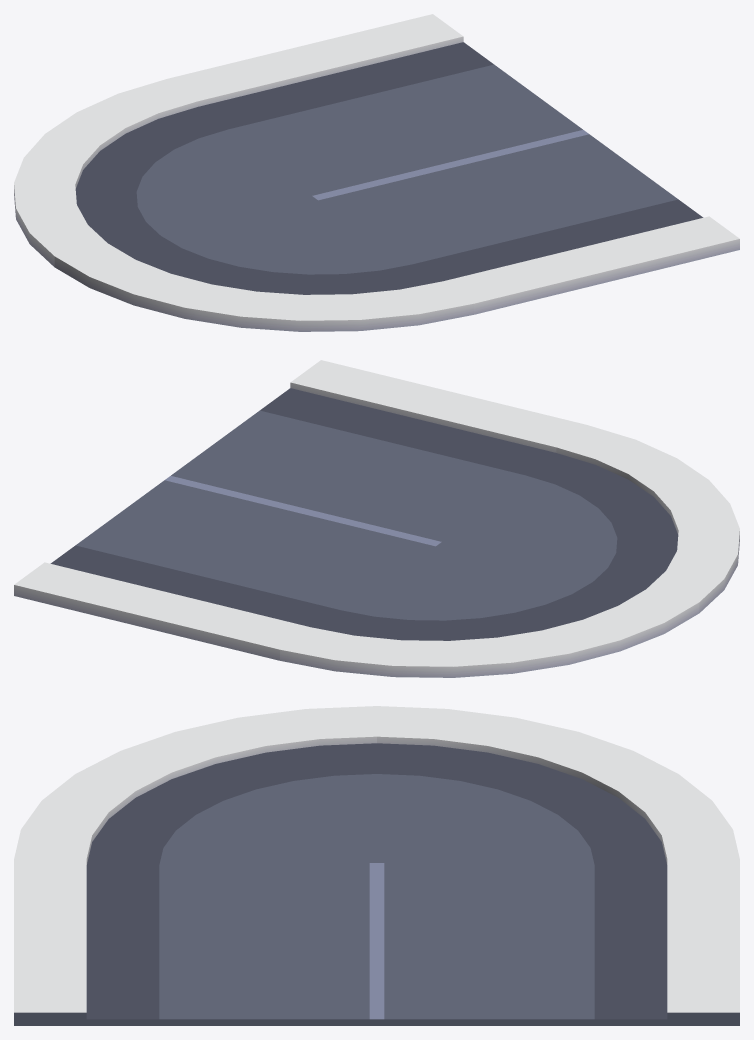
Rendered from kenney-city-roads-road-end-round.glb.
3 renders of one model, top to bottom at view 1: azimuth 30°, elevation 25°; view 2: azimuth 150°, elevation 25°; view 3: azimuth 270°, elevation 25°, orthographic. The views are drawn at different scales.
Parts seen in each view (by area): view 1: road-end-round; view 2: road-end-round; view 3: road-end-round.
Part boxes in pixels (box(x1,y1,x2,y2)): road-end-round: box(14, 14, 739, 331); road-end-round: box(14, 360, 739, 677); road-end-round: box(14, 706, 739, 1025).
Size of the model in its own units: 1 by 0.02 by 1.
Materials: 1 (1 with a texture image).
